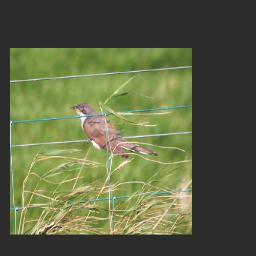Cuckoo: (69, 100, 160, 165)
